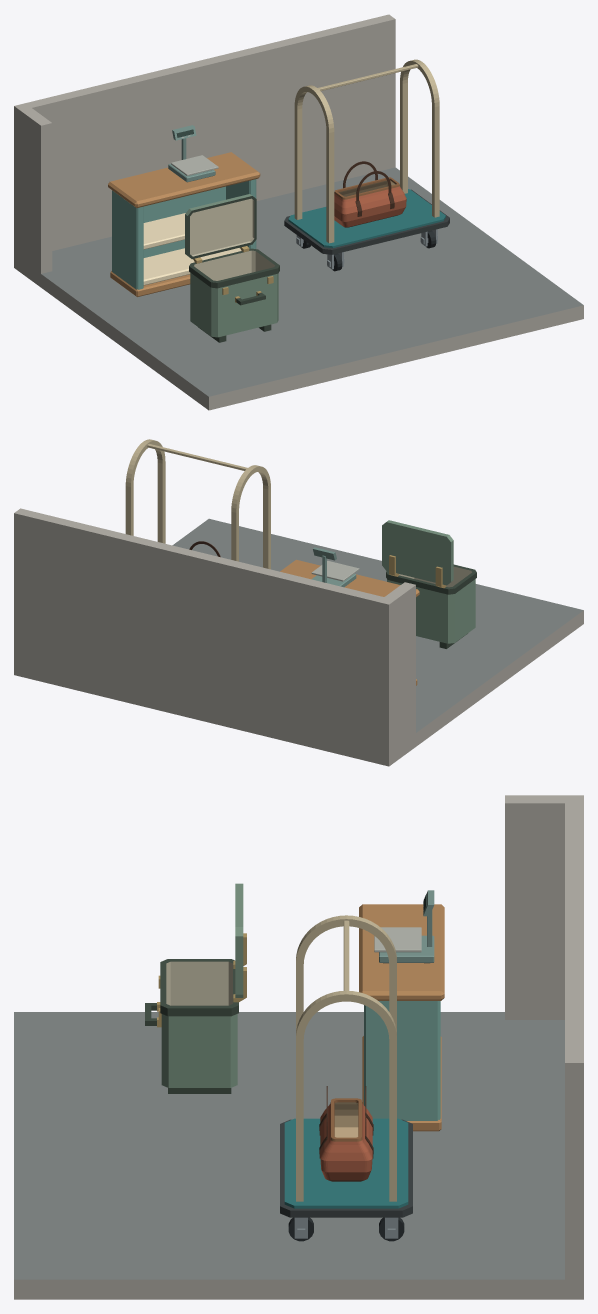
The picture shows the model from 3 angles, top to bottom: view 1: azimuth 30°, elevation 25°; view 2: azimuth 150°, elevation 25°; view 3: azimuth 270°, elevation 25°; orthographic projection. The views are drawn at different scales.
Parts seen in each view (by area): view 1: SCENE_ONLY__CounterFloorAndCutawayWalls, counter__dining-service-counter-01, case__DeepCase_ContinuousSteppedShell, trolley__IntegralLowFlatDeckAndPerimeter, case__SingleUprightCover_ContinuousRecessedShell, trolley__WholeArchedEndFrame_Left, trolley__WholeArchedEndFrame_Right, holdall__Body_SoftOpenMainChamber, scale__Parcel weighing platform; view 2: SCENE_ONLY__CounterFloorAndCutawayWalls, case__DeepCase_ContinuousSteppedShell, case__SingleUprightCover_ContinuousRecessedShell, trolley__WholeArchedEndFrame_Right, trolley__WholeArchedEndFrame_Left, counter__dining-service-counter-01, scale__Parcel weighing platform, trolley__UpperLongitudinalCrownBar; view 3: SCENE_ONLY__CounterFloorAndCutawayWalls, counter__dining-service-counter-01, case__DeepCase_ContinuousSteppedShell, trolley__IntegralLowFlatDeckAndPerimeter, trolley__WholeArchedEndFrame_Right, holdall__Body_SoftOpenMainChamber, trolley__WholeArchedEndFrame_Left, case__SingleUprightCover_ContinuousRecessedShell, scale__Parcel weighing platform, scale__Scale base housing, holdall__Mouth_FixedContinuousBinding.
Part boxes in pixels (<box>): SCENE_ONLY__CounterFloorAndCutawayWalls: <box>14,14,583,410</box>; counter__dining-service-counter-01: <box>108,152,260,297</box>; case__DeepCase_ContinuousSteppedShell: <box>189,248,279,337</box>; trolley__IntegralLowFlatDeckAndPerimeter: <box>284,189,449,254</box>; case__SingleUprightCover_ContinuousRecessedShell: <box>185,194,256,259</box>; trolley__WholeArchedEndFrame_Left: <box>294,85,334,243</box>; trolley__WholeArchedEndFrame_Right: <box>400,59,439,217</box>; holdall__Body_SoftOpenMainChamber: <box>334,180,406,227</box>; scale__Parcel weighing platform: <box>171,155,218,175</box>; SCENE_ONLY__CounterFloorAndCutawayWalls: <box>14,508,583,766</box>; case__DeepCase_ContinuousSteppedShell: <box>386,564,476,643</box>; case__SingleUprightCover_ContinuousRecessedShell: <box>382,520,453,585</box>; trolley__WholeArchedEndFrame_Right: <box>125,439,165,543</box>; trolley__WholeArchedEndFrame_Left: <box>231,465,270,569</box>; counter__dining-service-counter-01: <box>280,559,419,685</box>; scale__Parcel weighing platform: <box>311,561,359,581</box>; trolley__UpperLongitudinalCrownBar: <box>147,444,247,470</box>; SCENE_ONLY__CounterFloorAndCutawayWalls: <box>14,795,583,1299</box>; counter__dining-service-counter-01: <box>359,904,444,1131</box>; case__DeepCase_ContinuousSteppedShell: <box>160,959,238,1087</box>; trolley__IntegralLowFlatDeckAndPerimeter: <box>280,1118,412,1217</box>; trolley__WholeArchedEndFrame_Right: <box>296,990,396,1201</box>; holdall__Body_SoftOpenMainChamber: <box>320,1102,372,1181</box>; trolley__WholeArchedEndFrame_Left: <box>296,915,396,1031</box>; case__SingleUprightCover_ContinuousRecessedShell: <box>235,883,243,997</box>; scale__Parcel weighing platform: <box>374,927,421,952</box>; scale__Scale base housing: <box>379,935,434,962</box>; holdall__Mouth_FixedContinuousBinding: <box>330,1098,362,1141</box>.
Size of the model in its own units: 4 by 1.89 by 3.6.
